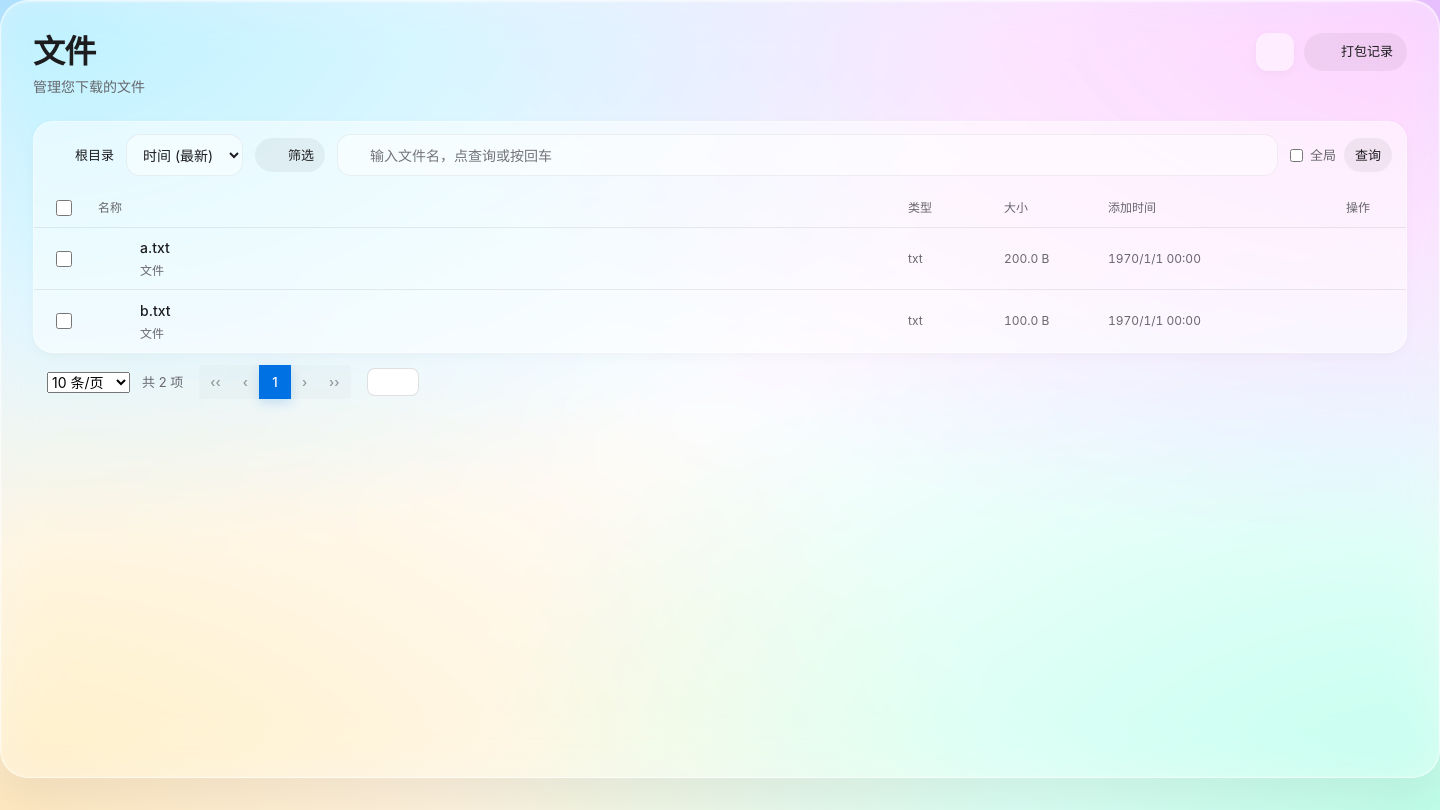
FilesPage 排序 › 点击表头切换字段与方向，排序图标同步
expect the text "b.txt" is shown: met, box [140,302,170,319]
// 点名称表头：切到 name-asc。
Step 1. Click the button with class "sortable-header" showing "名称" → (110, 207), box [98,199,896,217]
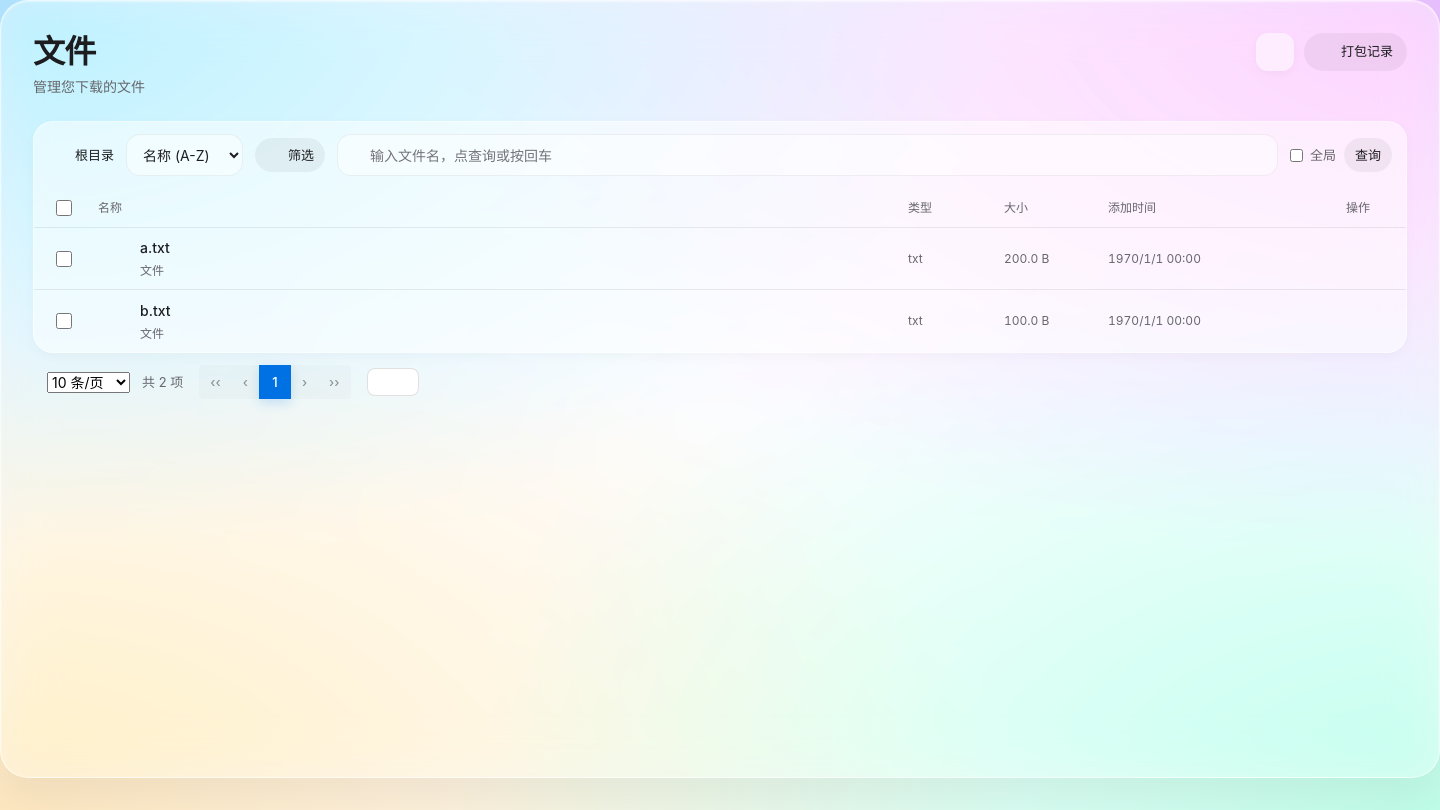
expect the dropdown named "排序方式" shows "名称 (A-Z)": met, box [126,134,243,176]
// 再点同一个：方向翻转。
Step 2. Click the button with class "sortable-header" showing "名称" → (110, 207), box [98,199,896,217]
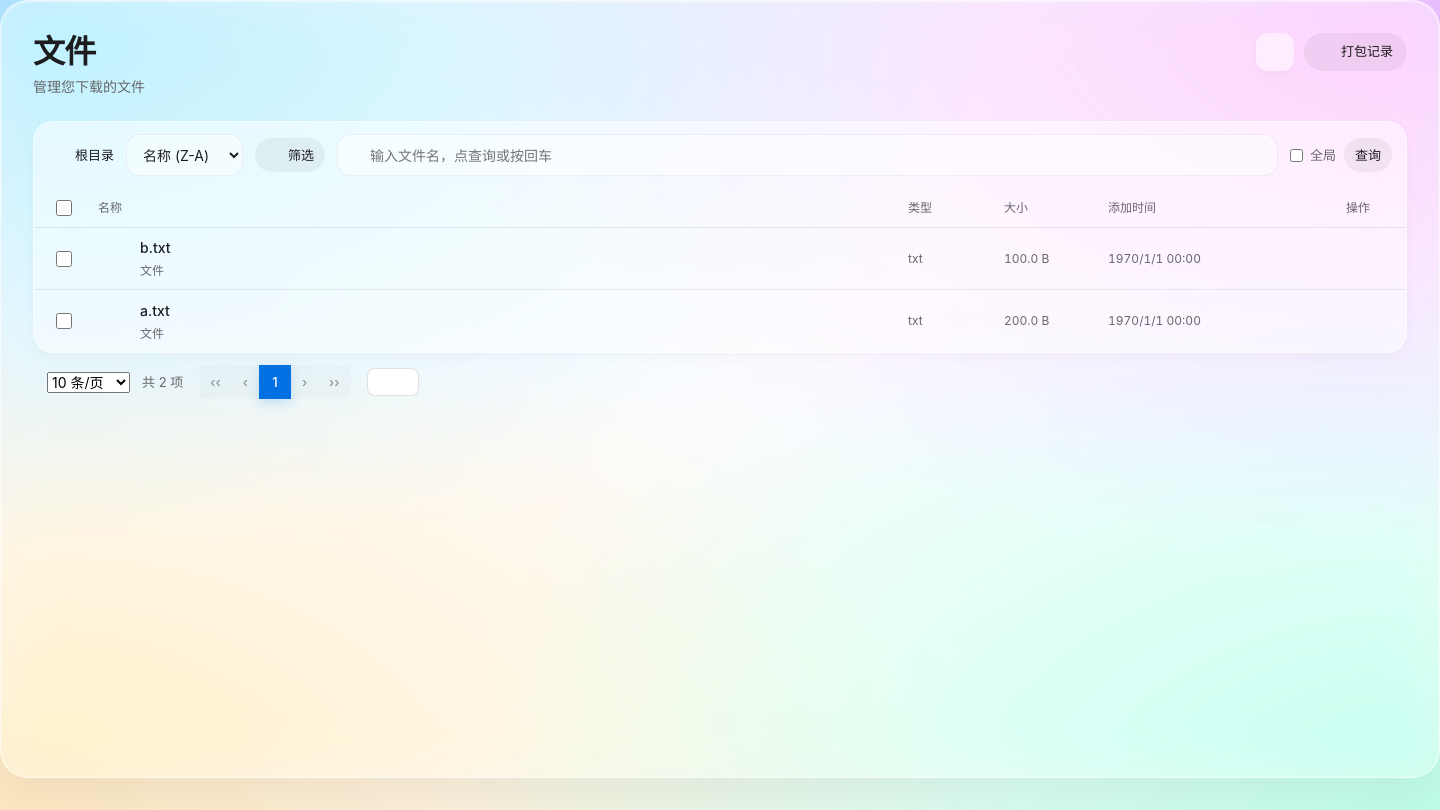
expect the dropdown named "排序方式" shows "名称 (Z-A)": met, box [126,134,243,176]
// 点类型表头：文本类字段默认升序。
Step 3. Click the button with class "sortable-header" showing "类型" → (950, 208), box [908,199,992,217]
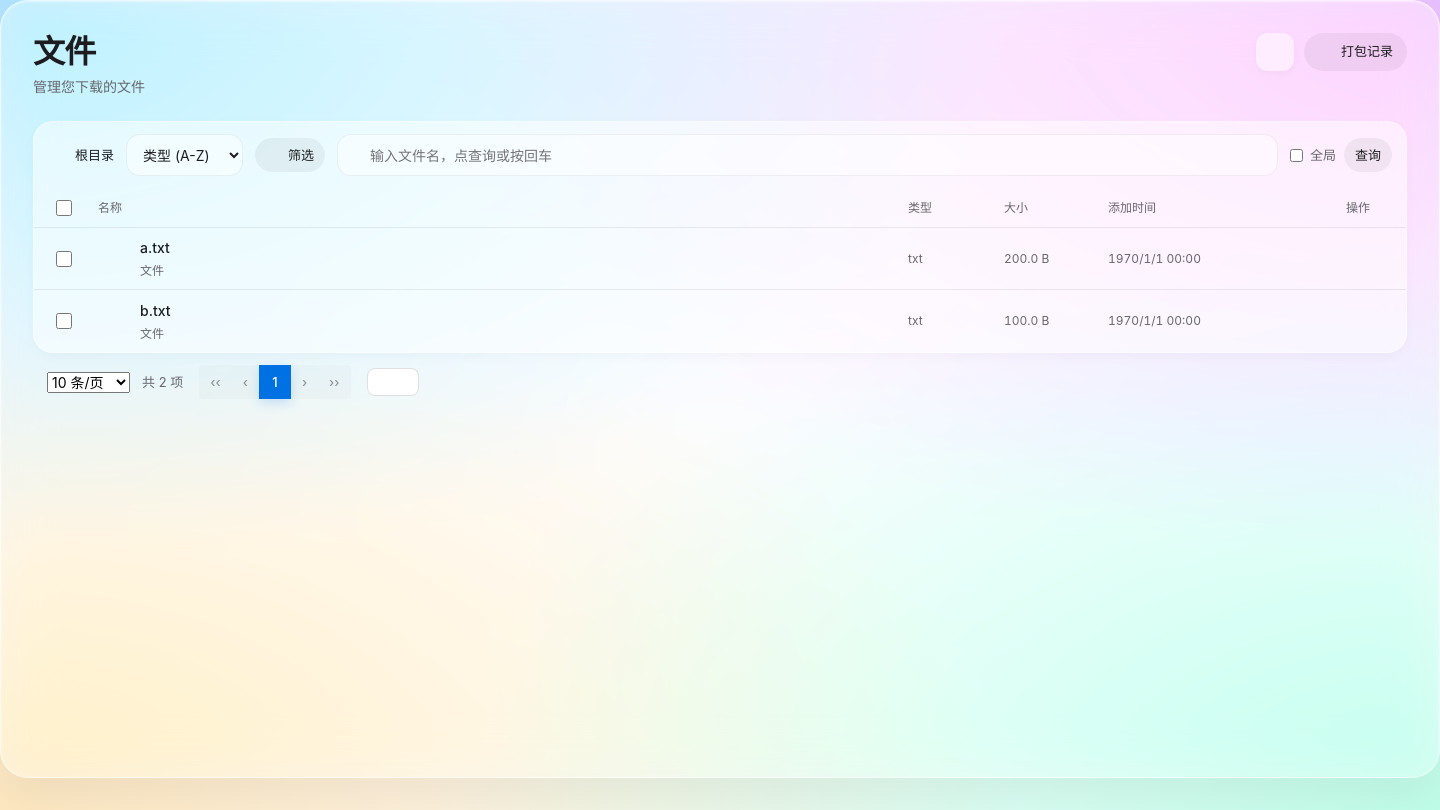
expect the dropdown named "排序方式" shows "类型 (A-Z)": met, box [126,134,243,176]
// 点大小表头：字段切换，非文本字段默认降序。
Step 4. Click the button with class "sortable-header" showing "大小" → (1050, 208), box [1004,199,1096,217]
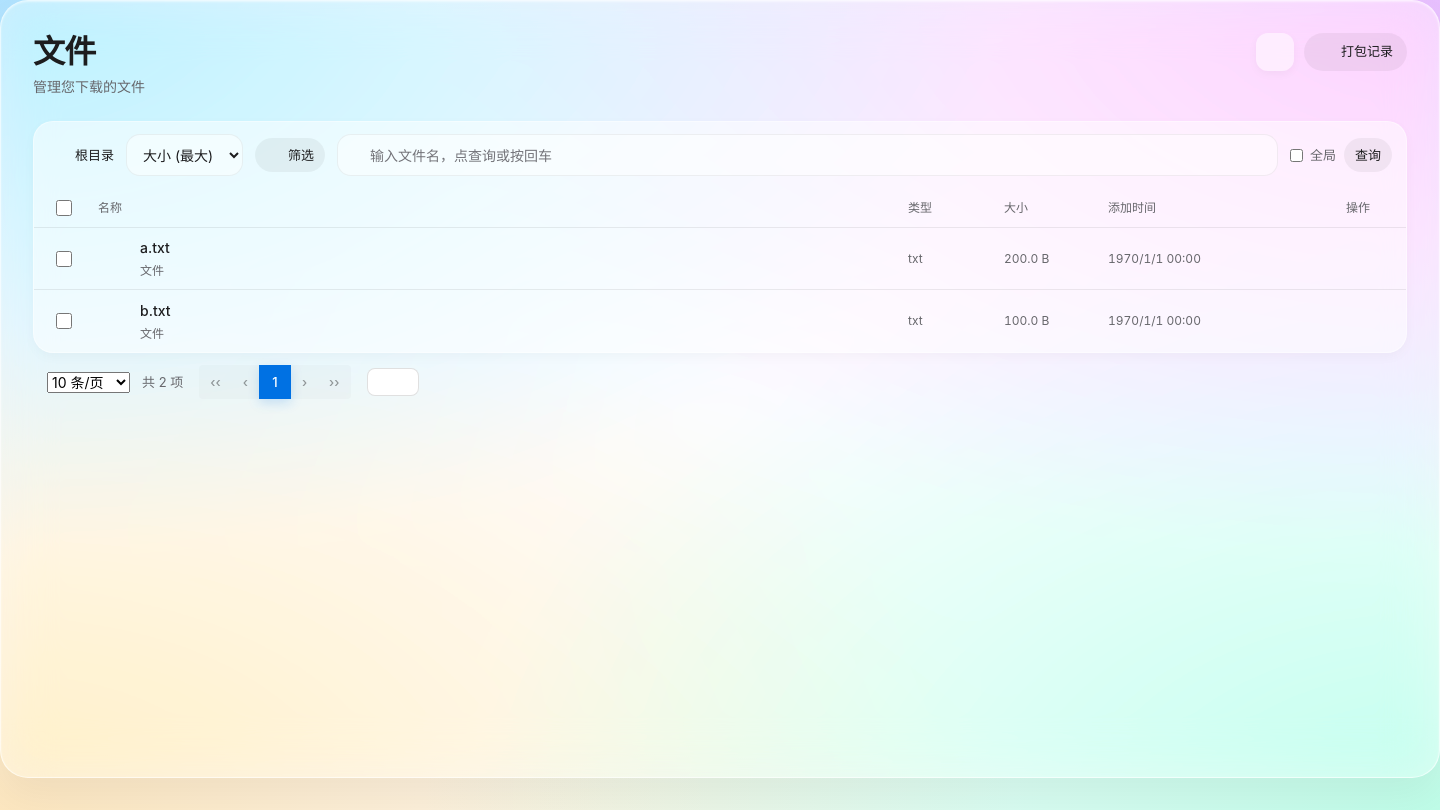
expect the dropdown named "排序方式" shows "大小 (最大)": met, box [126,134,243,176]
Step 5. Click the button with class "sortable-header" showing "添加时间" → (1181, 208), box [1108,199,1254,217]
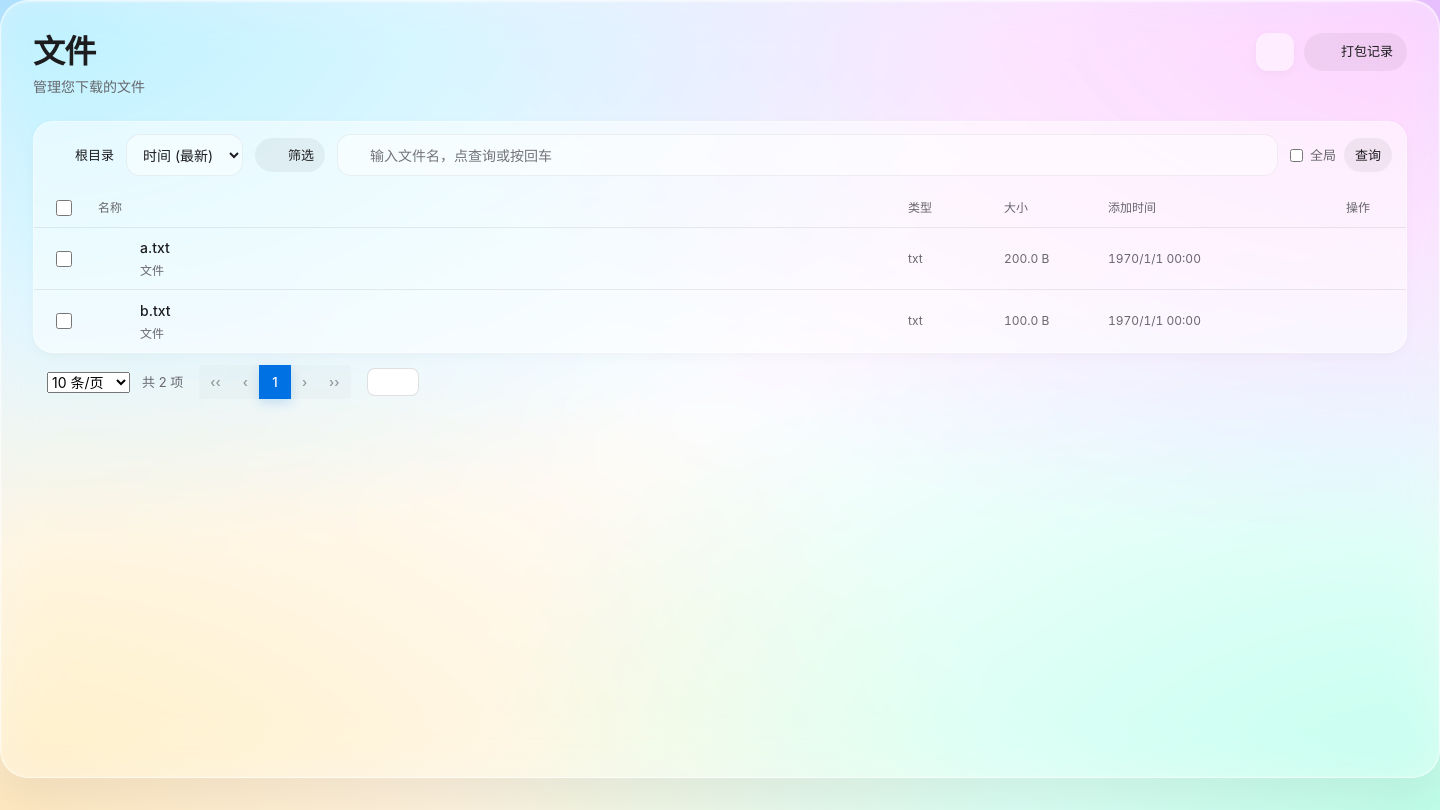
expect the dropdown named "排序方式" shows "时间 (最新)": met, box [126,134,243,176]
